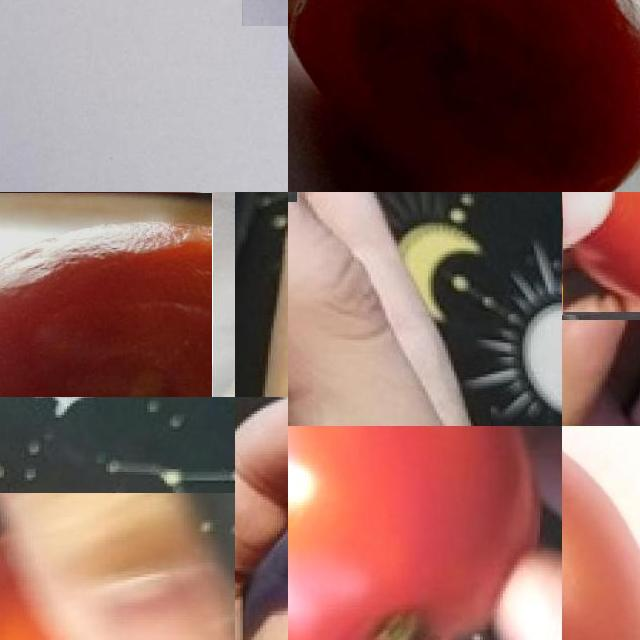0: (288, 426, 562, 640), (562, 426, 640, 640), (562, 192, 640, 315)
Fresh Tomato: (0, 493, 235, 640)
Rotten Tomato: (288, 0, 640, 192), (0, 192, 212, 397)
